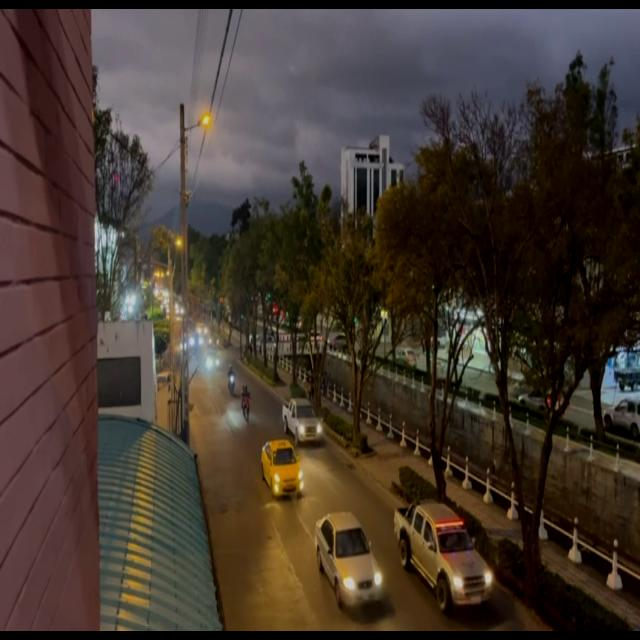CMT: (395, 506, 492, 607), (283, 401, 321, 444)
SED: (318, 518, 381, 606), (263, 445, 302, 498)
